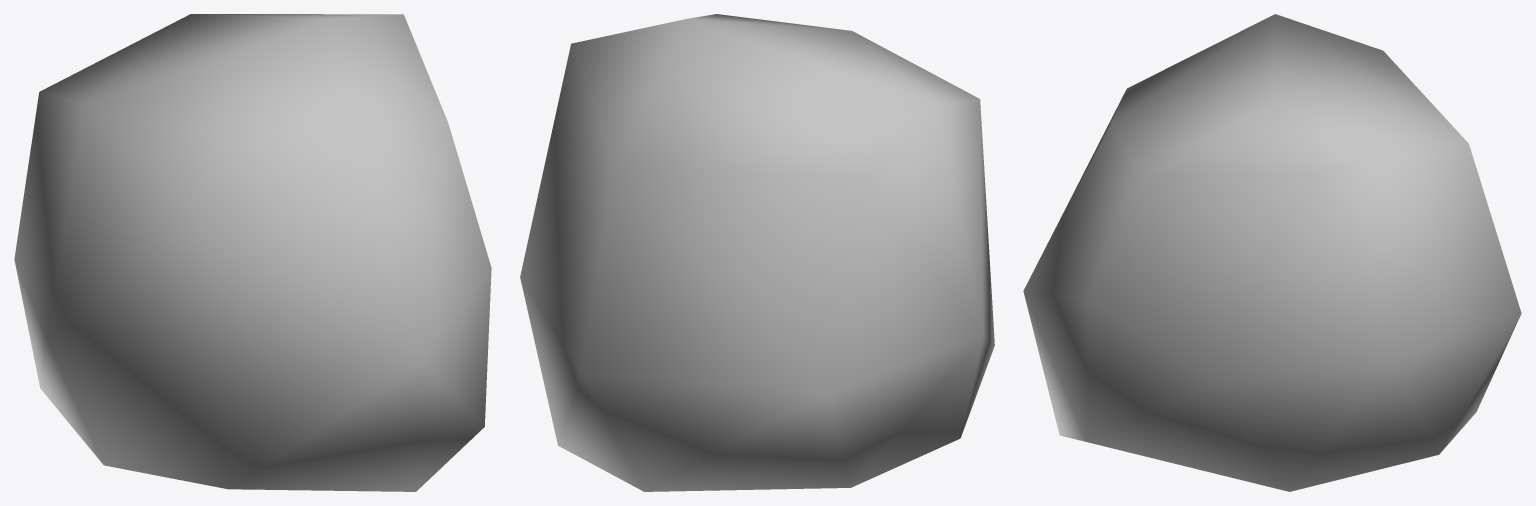
File: Stone11.fbx
3 renders of one model, left to right at view 1: azimuth 30°, elevation 25°; view 2: azimuth 150°, elevation 25°; view 3: azimuth 270°, elevation 25°, orthographic. The views are drawn at different scales.
Visible parts, largest first — view 1: Piedra_11; view 2: Piedra_11; view 3: Piedra_11.
Boxes of the visible parts, x1,y1,x2,y2 form: Piedra_11: (14, 14, 491, 491); Piedra_11: (520, 14, 994, 491); Piedra_11: (1023, 14, 1521, 491).
Size of the model in its own units: 2.22 by 2.14 by 2.6.
